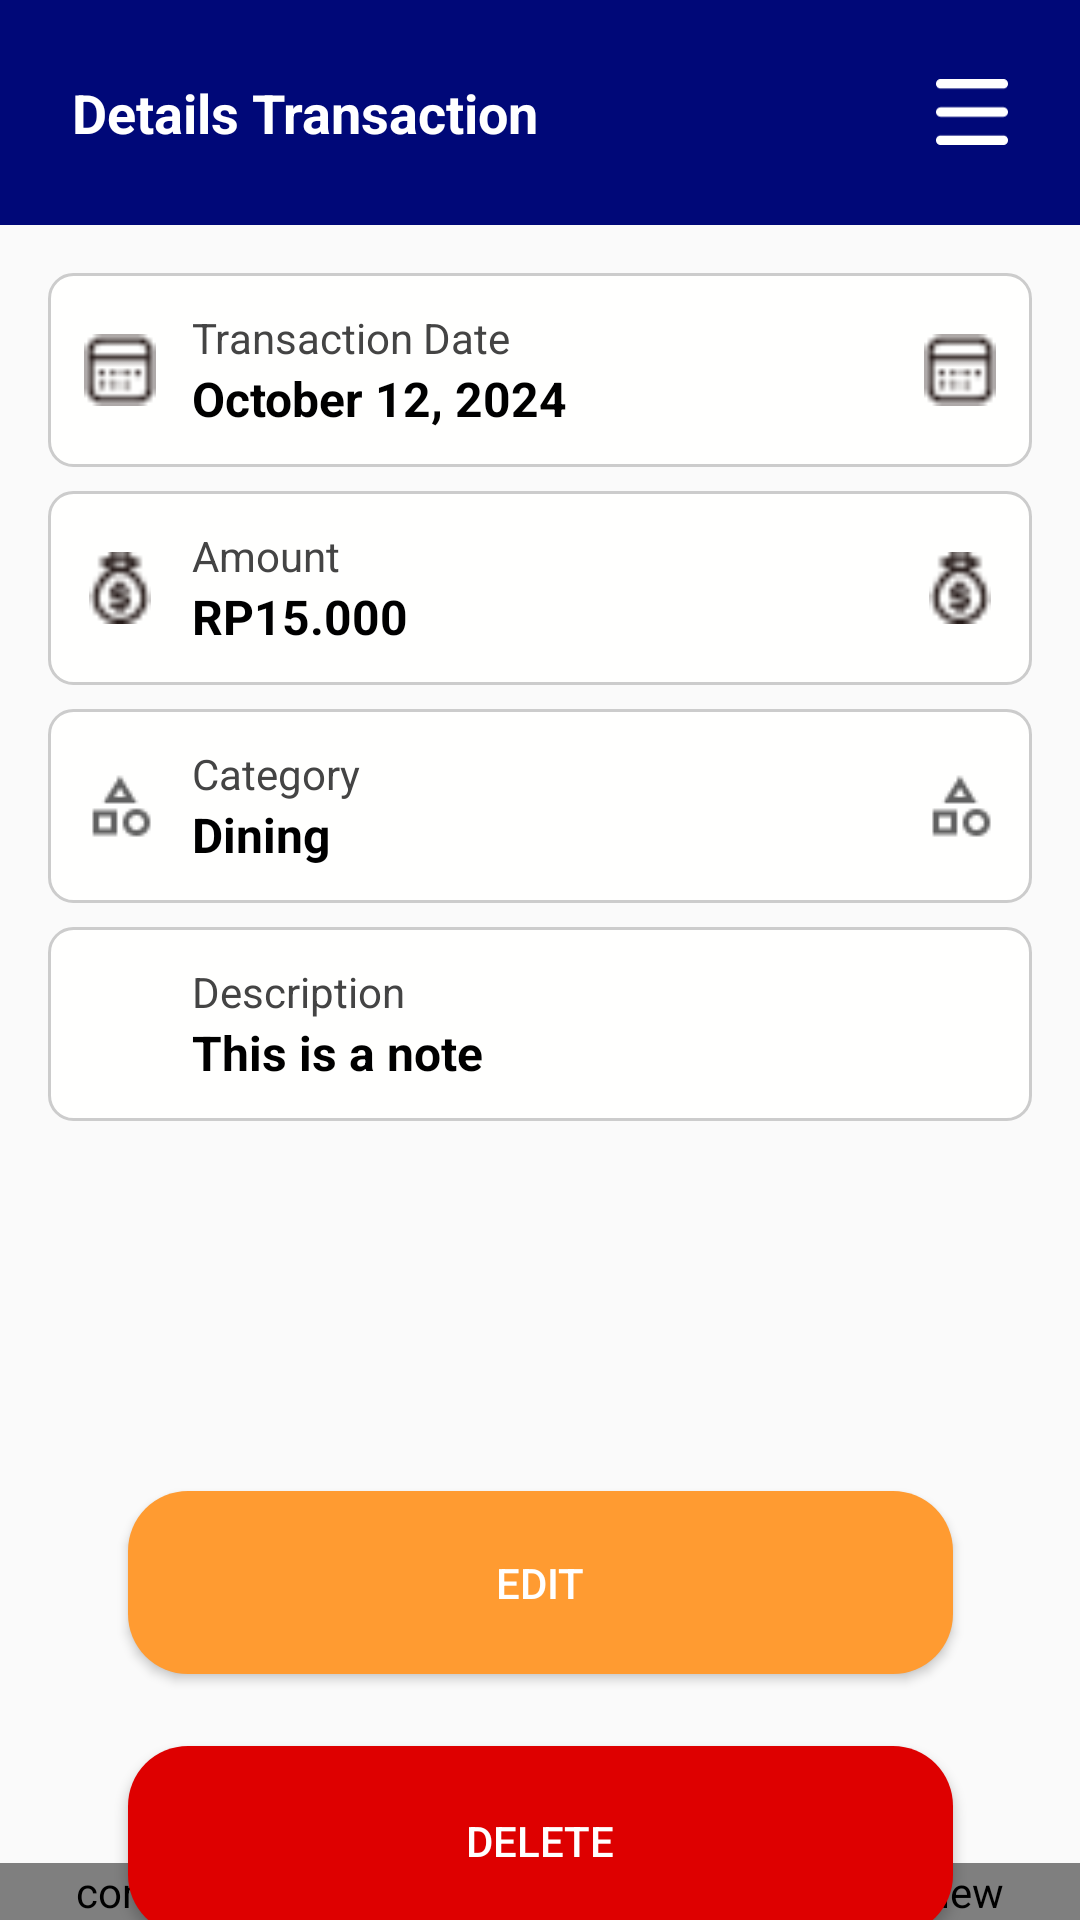

Icons on this 1080w x 1920h Android screen, each with its box as region(x1, y1, x2, y2):
Calendar icon: region(84, 334, 156, 406), region(924, 334, 996, 406)
Menu: region(936, 79, 1008, 145)
Money icon: region(89, 552, 151, 624), region(929, 552, 991, 624)
